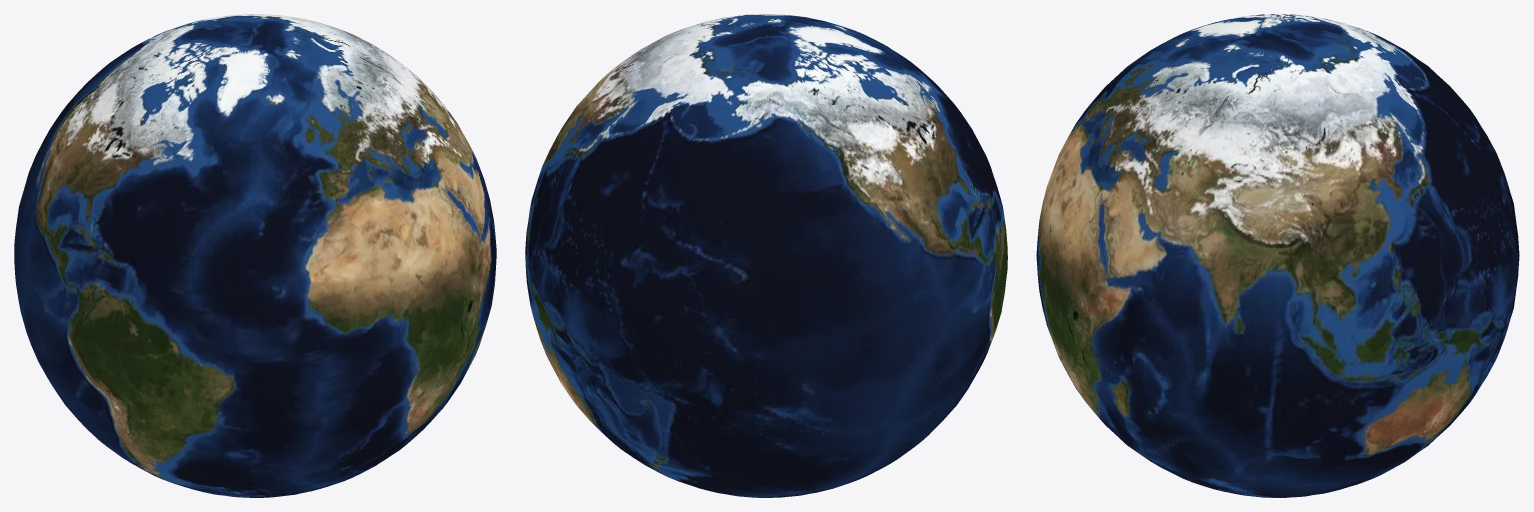
File: earth2-transformed.glb
3 views of the same model, side by side, from view 1: azimuth 30°, elevation 25°; view 2: azimuth 150°, elevation 25°; view 3: azimuth 270°, elevation 25° (orthographic).
Parts seen in each view (by area): view 1: Earth_Surface.mat_0; view 2: Earth_Surface.mat_0; view 3: Earth_Surface.mat_0.
Part boxes in pixels (<box>): Earth_Surface.mat_0: <box>14,14,496,497</box>; Earth_Surface.mat_0: <box>525,14,1007,497</box>; Earth_Surface.mat_0: <box>1036,14,1519,497</box>.
Bounding box in the file's own units: 8485 × 8536 × 8485.
1 material, 1 textured.
